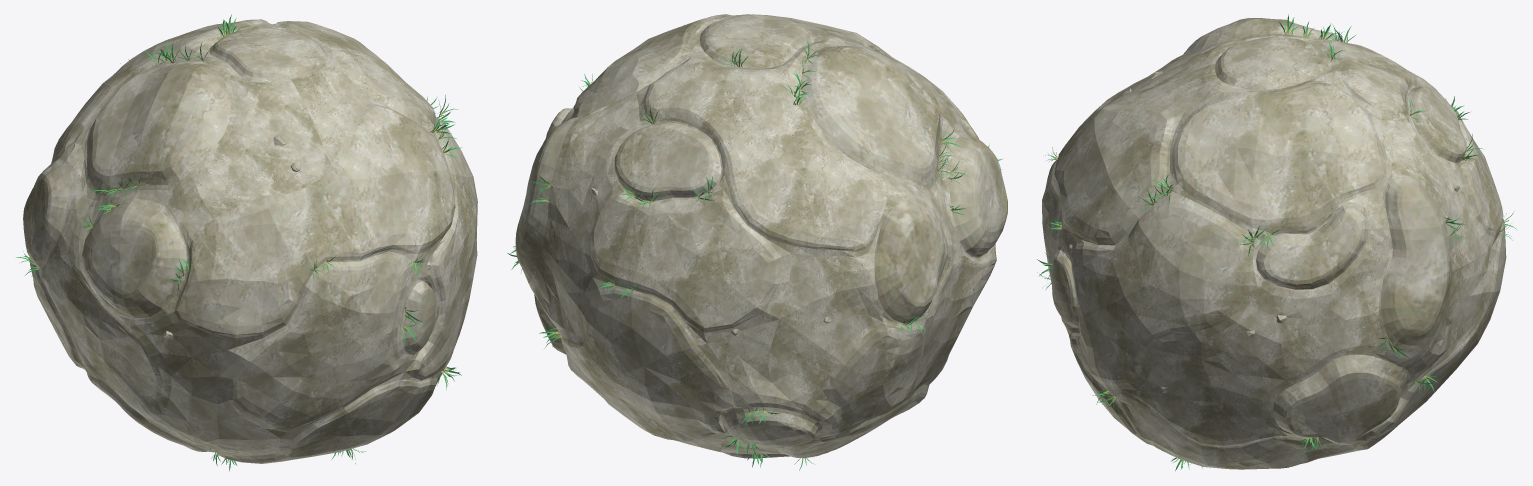
Rendered from YoshiBoxBreakPlanet.dae.
The picture shows the model from 3 angles, left to right: view 1: azimuth 30°, elevation 25°; view 2: azimuth 150°, elevation 25°; view 3: azimuth 270°, elevation 25°; orthographic projection. The views are drawn at different scales.
Visible parts, largest first — view 1: m0, m1, m2; view 2: m0, m1, m2; view 3: m0, m1, m2.
Part boxes in pixels (box(x1,y1,x2,y2)): m0: box(29, 19, 477, 463); m1: box(23, 27, 436, 451); m2: box(16, 14, 462, 471); m0: box(528, 14, 996, 458); m1: box(515, 14, 1007, 458); m2: box(507, 41, 1003, 470); m0: box(1042, 33, 1506, 469); m1: box(1051, 18, 1466, 468); m2: box(1037, 14, 1517, 470).
Bounding box in the file's own units: 1563 × 1591 × 1684.
3 materials, 3 textured.
